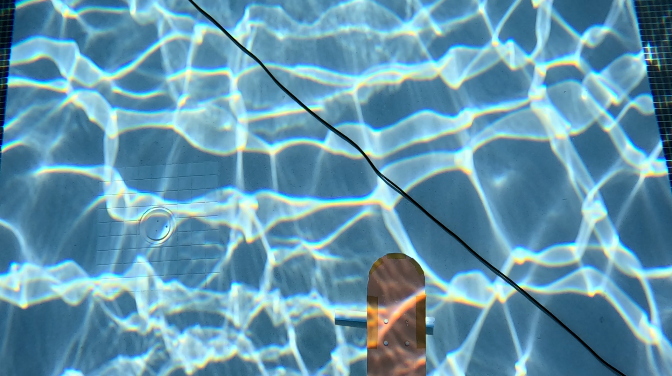pathmarker: (367, 253, 425, 375)
